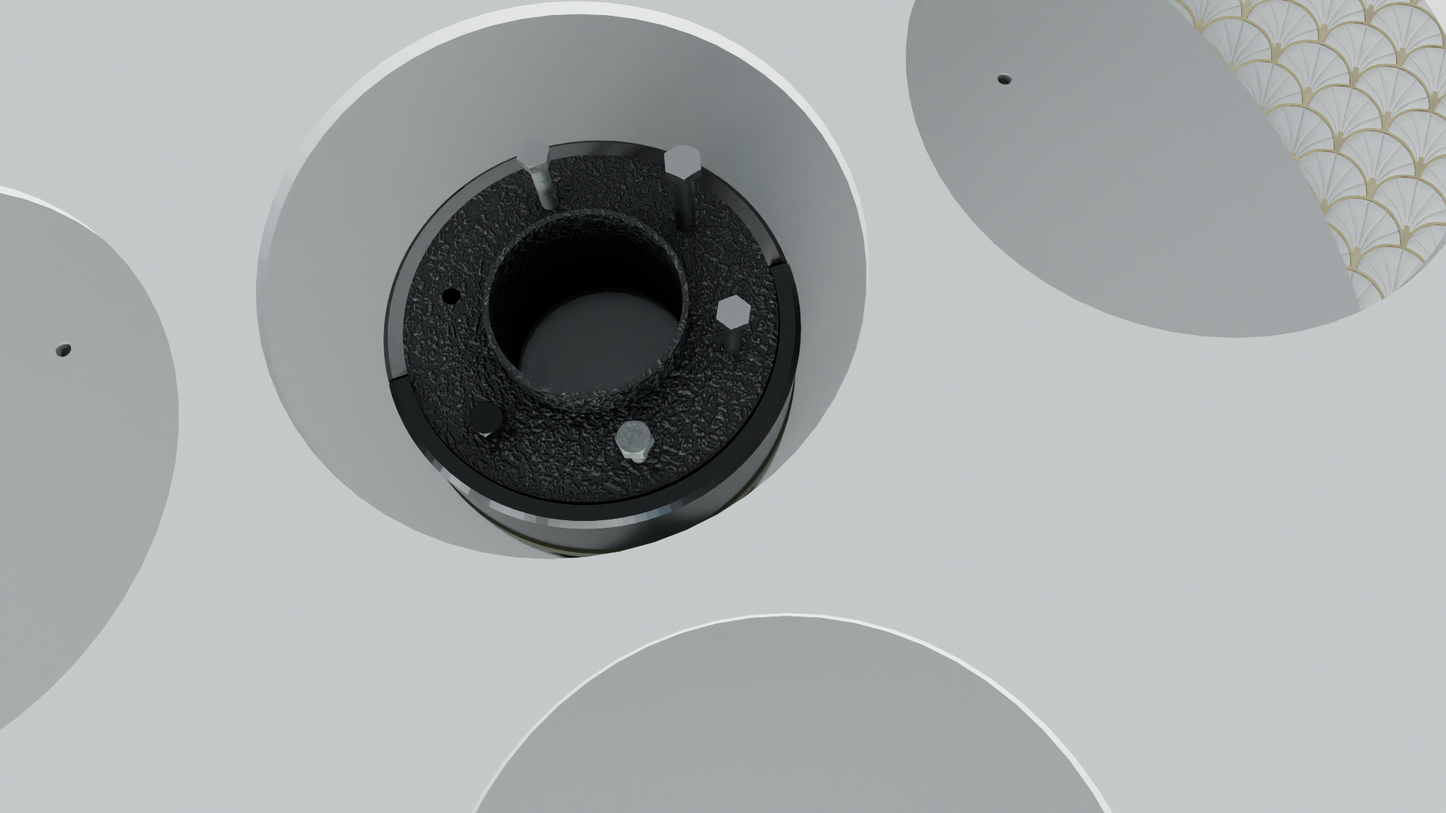bolt: (664, 143, 701, 180), (469, 400, 504, 437), (615, 421, 653, 455), (716, 295, 751, 330), (517, 139, 549, 169)
